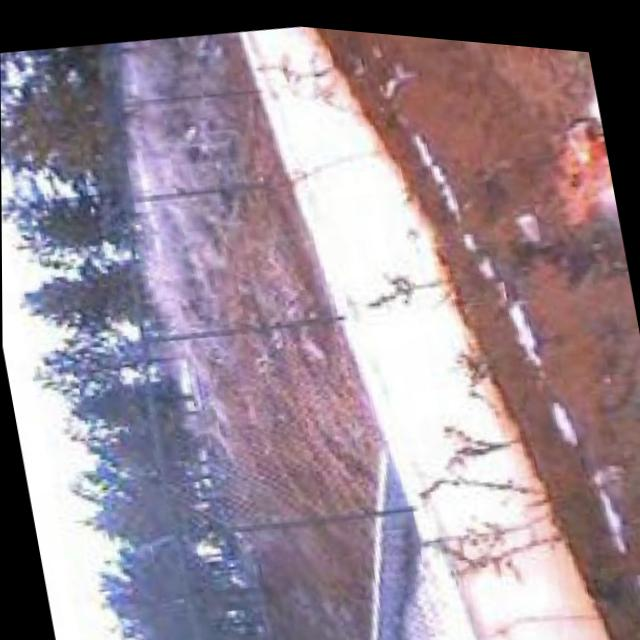Fire: (539, 94, 620, 224)
